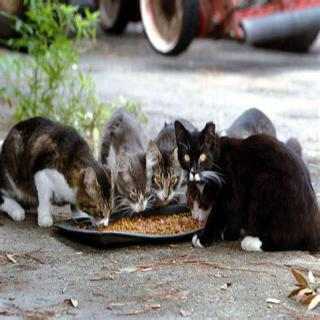cat: (2, 121, 117, 237), (174, 121, 222, 190)
